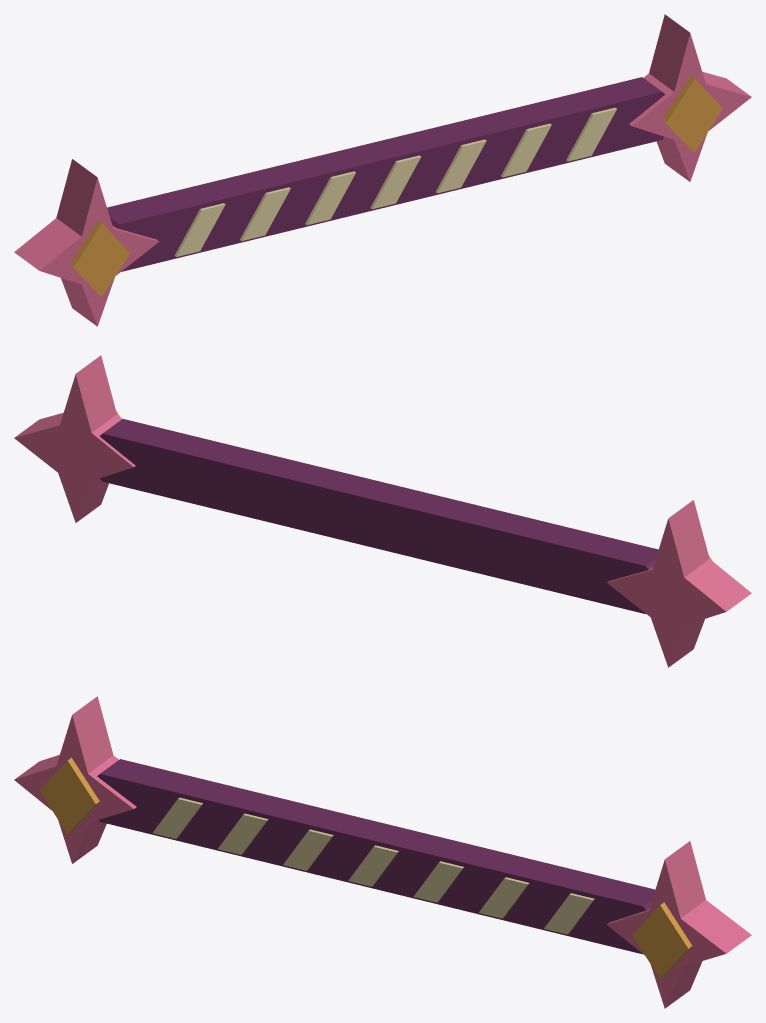
The model's file is comet_bar.glb.
3 views of the same model, one above another, from view 1: azimuth 30°, elevation 25°; view 2: azimuth 150°, elevation 25°; view 3: azimuth 330°, elevation 25° (orthographic).
Parts seen in each view (by area): view 1: comet_bar; view 2: comet_bar; view 3: comet_bar.
Boxes of the visible parts, x1,y1,x2,y2 form: comet_bar: (14, 14, 751, 326); comet_bar: (14, 355, 751, 667); comet_bar: (14, 696, 751, 1008).
Size of the model in its own units: 4.04 by 0.81 by 0.295.
